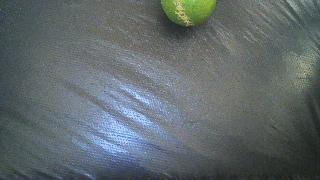DESECHO: (161, 0, 216, 27)
